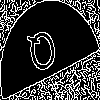Q: (25, 24, 62, 84)
